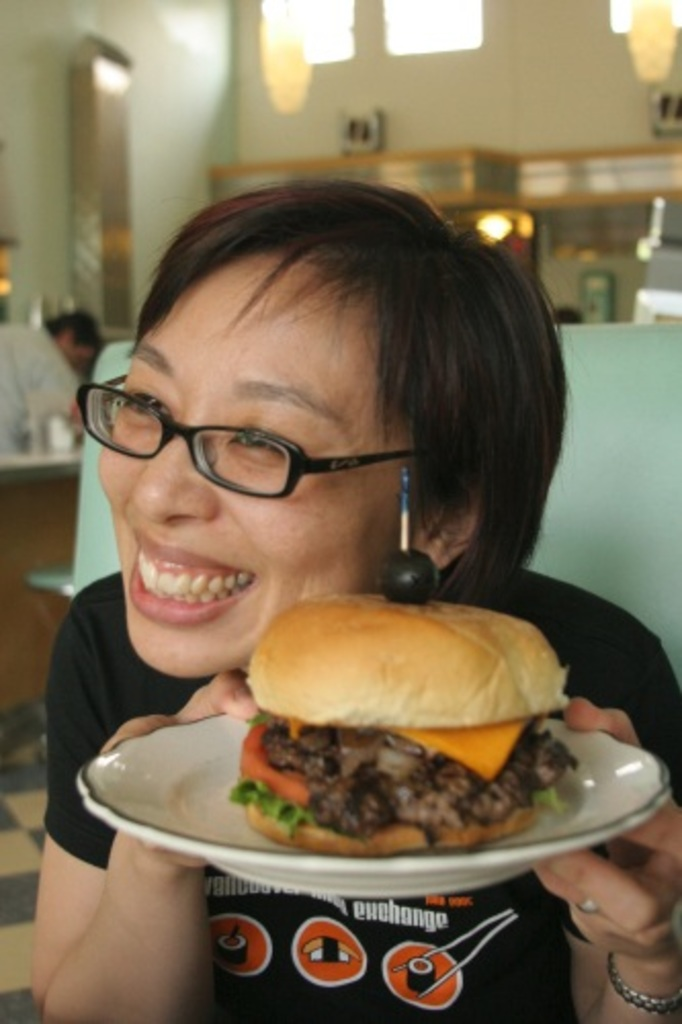Hamburger: (225, 550, 573, 858)
